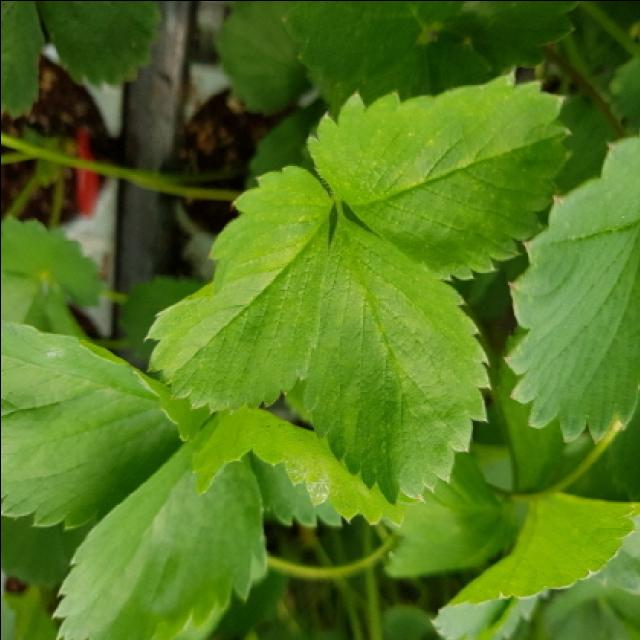Powdery Mildew Leaf: (191, 406, 420, 528)
